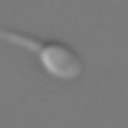normal: (1, 24, 43, 53)
